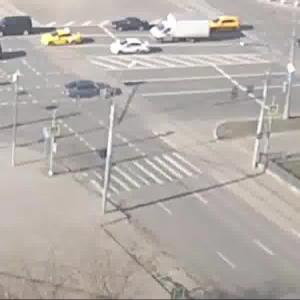car: (154, 13, 208, 45), (63, 82, 110, 103), (1, 15, 33, 41), (40, 30, 83, 49), (209, 18, 243, 35), (113, 19, 153, 31), (117, 43, 151, 57)
